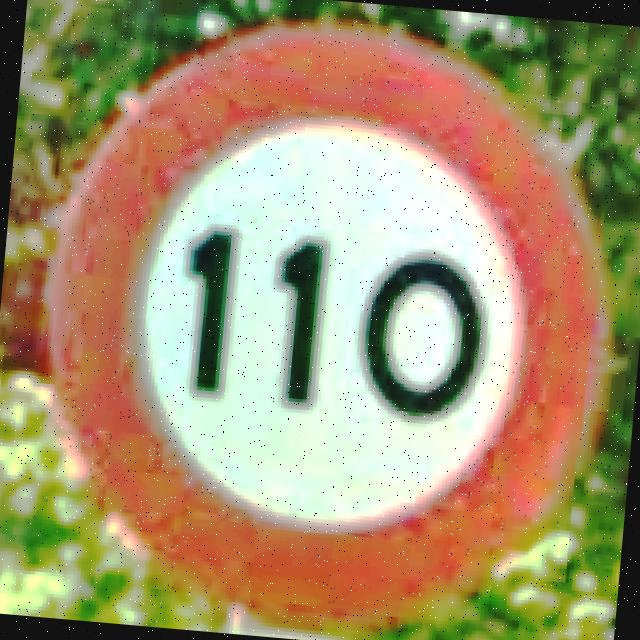max110: (13, 0, 633, 640)
